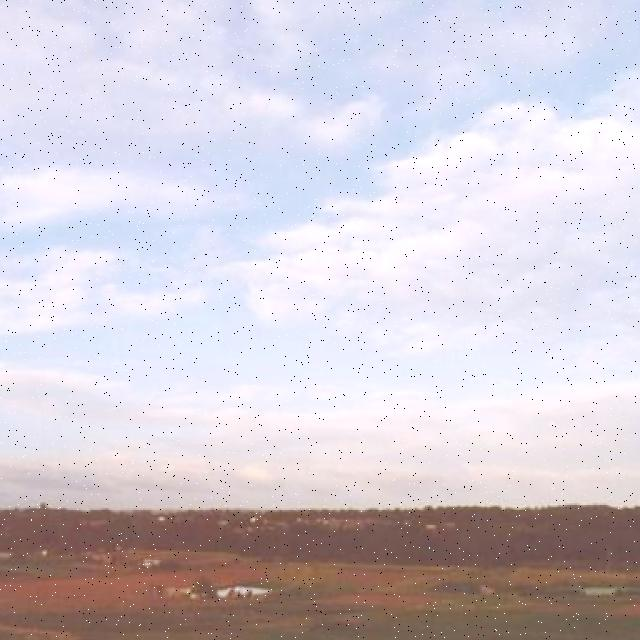St: (216, 63, 640, 389)
